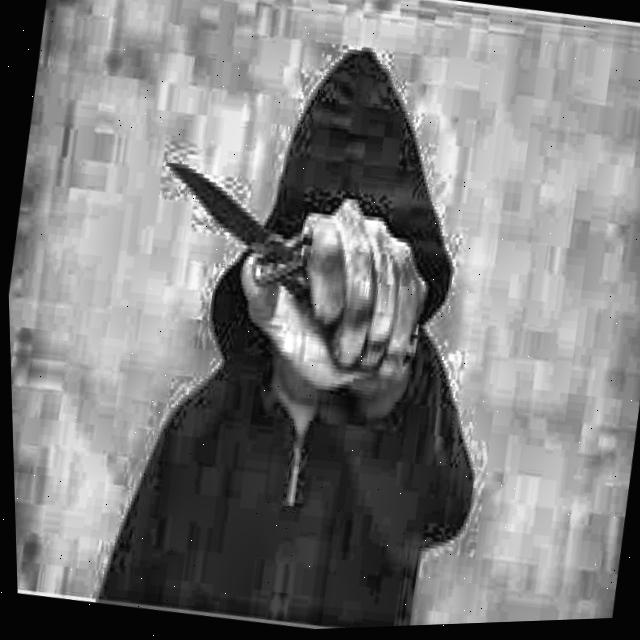pisau: (161, 150, 455, 384)
robbery: (84, 36, 495, 628)
